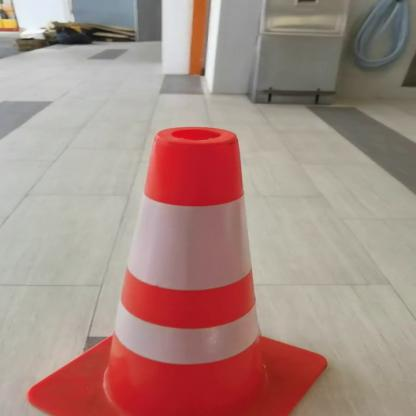cone: (15, 119, 390, 416)
